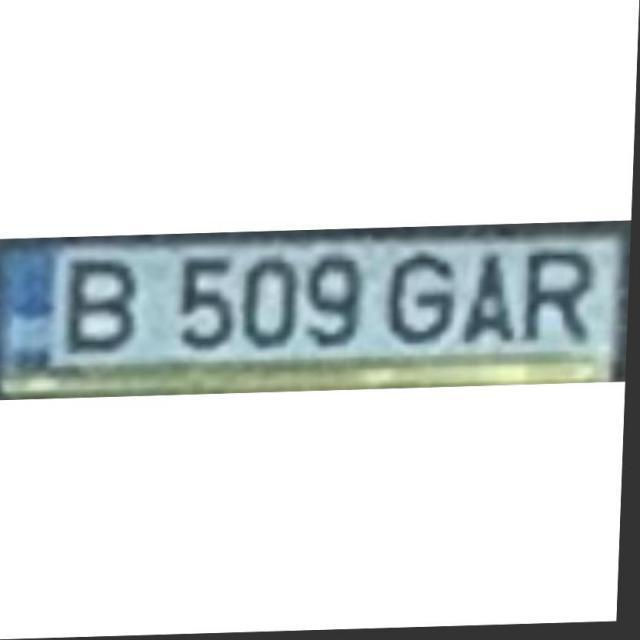license-plates: (0, 222, 630, 399)
